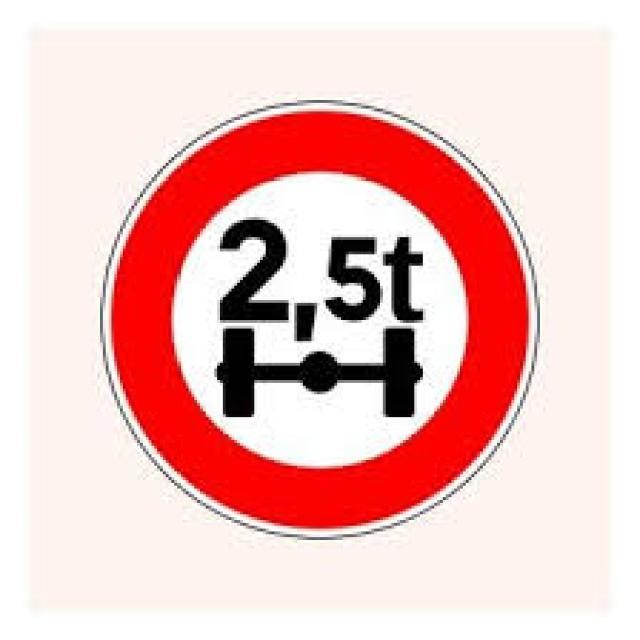axle load limit: (109, 107, 531, 539)
